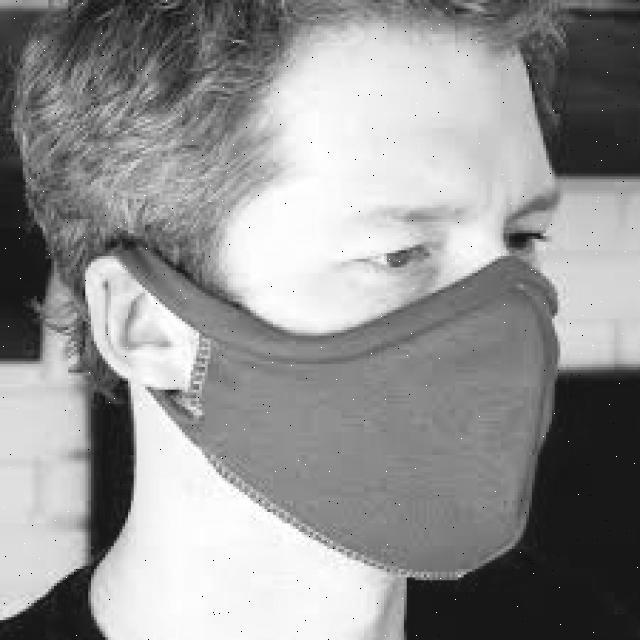fake: (92, 206, 566, 592)
real: (212, 21, 555, 596)
